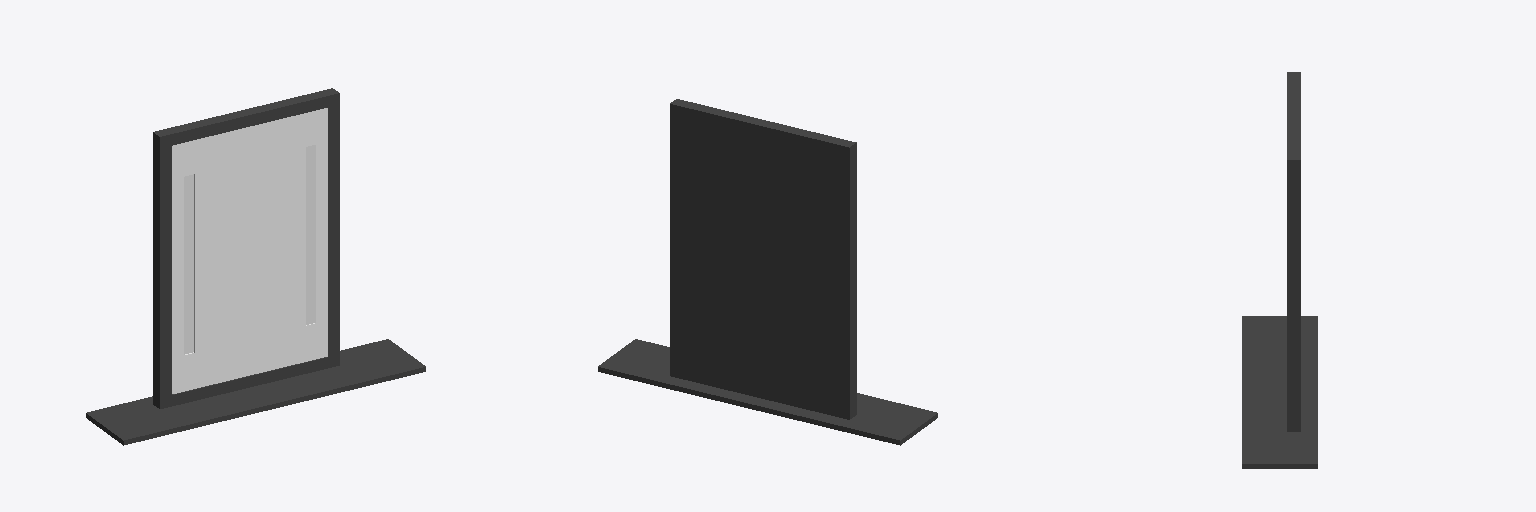
File: Spiegel.obj
The picture shows the model from 3 angles: view 1: azimuth 30°, elevation 25°; view 2: azimuth 150°, elevation 25°; view 3: azimuth 270°, elevation 25°; orthographic projection.
Parts seen in each view (by area): view 1: Mesh4 Component_2919 G_12_V3_Spiegel_dwg1 Model, Mesh1 Component_2918 G_12_V3_Spiegel_dwg1 Model, Mesh12 Component_2926 G_12_V3_Spiegel_dwg1 Model, Mesh8 Component_2920 G_12_V3_Spiegel_dwg1 Model, Mesh10 Component_2921 G_12_V3_Spiegel_dwg1 Model; view 2: Mesh1 Component_2918 G_12_V3_Spiegel_dwg1 Model, Mesh12 Component_2926 G_12_V3_Spiegel_dwg1 Model; view 3: Mesh12 Component_2926 G_12_V3_Spiegel_dwg1 Model, Mesh1 Component_2918 G_12_V3_Spiegel_dwg1 Model.
Part boxes in pixels (x1,y1,x2,y2): Mesh4 Component_2919 G_12_V3_Spiegel_dwg1 Model: (172,108,327,393); Mesh1 Component_2918 G_12_V3_Spiegel_dwg1 Model: (153,88,339,408); Mesh12 Component_2926 G_12_V3_Spiegel_dwg1 Model: (86,339,425,445); Mesh8 Component_2920 G_12_V3_Spiegel_dwg1 Model: (306,145,315,324); Mesh10 Component_2921 G_12_V3_Spiegel_dwg1 Model: (184,174,193,354); Mesh1 Component_2918 G_12_V3_Spiegel_dwg1 Model: (670,99,856,419); Mesh12 Component_2926 G_12_V3_Spiegel_dwg1 Model: (598,339,937,445); Mesh12 Component_2926 G_12_V3_Spiegel_dwg1 Model: (1242,316,1317,468); Mesh1 Component_2918 G_12_V3_Spiegel_dwg1 Model: (1287,72,1300,431).
Size of the model in its own units: 126 by 111 by 27.49.